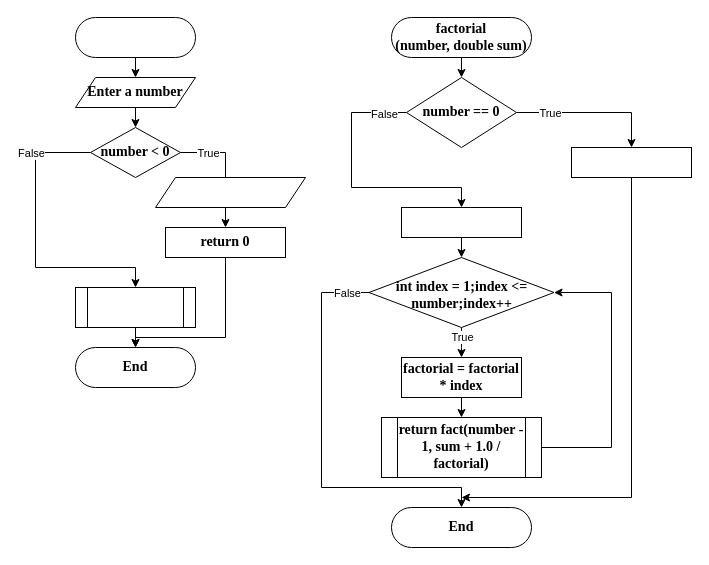
This 709x565 diagram has some shape labels left out. Each missing label, with the centre of its shape:
"Beginning" belongs at (135,37).
"double factorial = 1" belongs at (461,222).
"factorial (number, 0)" belongs at (135,307).
"Invalid user input!" belongs at (230,192).
"return sum" belongs at (631,162).
